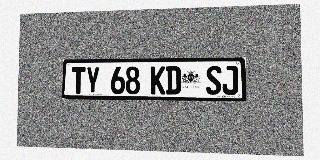6: (111, 66, 125, 94)
8: (125, 66, 140, 94)
D: (166, 66, 181, 94)
J: (222, 66, 238, 95)
K: (150, 66, 165, 94)
S: (206, 66, 222, 95)
T: (71, 67, 85, 94)
Y: (86, 67, 100, 94)
